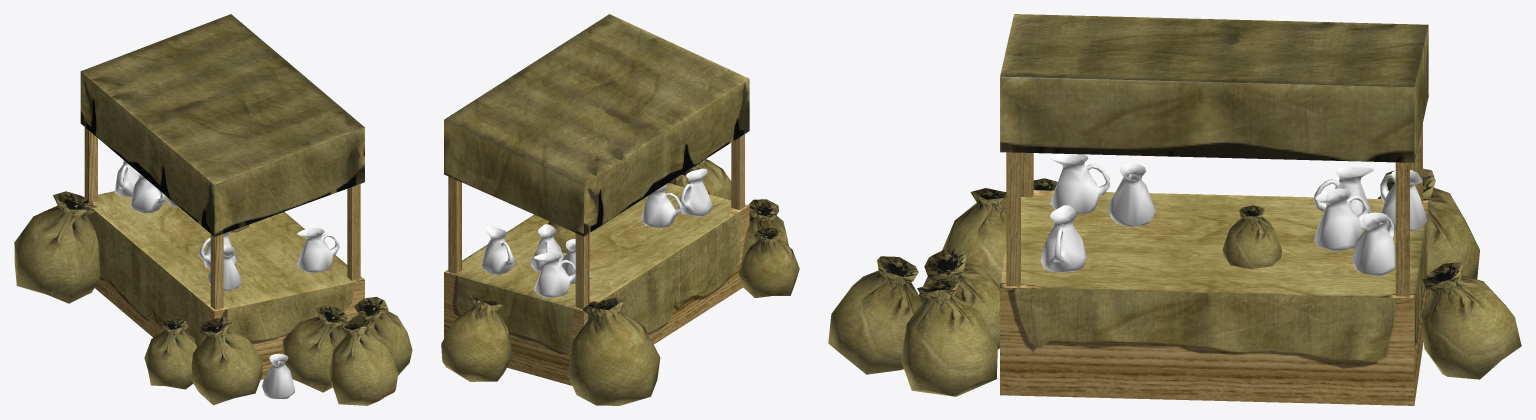
The model's file is store13_2.fbx.
3 renders of one model, left to right at view 1: azimuth 30°, elevation 25°; view 2: azimuth 150°, elevation 25°; view 3: azimuth 270°, elevation 25°, orthographic. The views are drawn at different scales.
Parts seen in each view (by area): view 1: stand_16, bag_137, bag_138, bag_139, bag_143, bag_140, bag_142, pot_16, pot_11, pot_12, pot_15, pot_13 (+1 smaller); view 2: stand_16, bag_137, bag_144, bag_140, pot_13, bag_138, pot_9, pot_14, pot_15, bag_139, pot_10, pot_12 (+1 smaller); view 3: stand_16, bag_142, bag_144, bag_139, bag_138, bag_137, bag_143, bag_141, pot_10, pot_15, pot_14, pot_16 (+3 smaller).
Boxes of the visible parts, box(x1,y1,x2,y2) form: stand_16: box(80, 14, 364, 379); bag_137: box(14, 191, 100, 303); bag_138: box(190, 317, 262, 405); bag_139: box(328, 321, 398, 405); bag_143: box(282, 305, 348, 392); bag_140: box(144, 318, 196, 389); bag_142: box(348, 297, 412, 375); pot_16: box(297, 227, 339, 273); pot_11: box(261, 353, 294, 399); pot_12: box(130, 167, 165, 213); pot_15: box(208, 245, 240, 290); pot_13: box(114, 159, 138, 196); stand_16: box(444, 14, 749, 385); bag_137: box(567, 297, 660, 405); bag_144: box(441, 297, 512, 381); bag_140: box(738, 228, 799, 297); pot_13: box(533, 252, 575, 297); bag_138: box(741, 199, 788, 264); pot_9: box(641, 184, 682, 227); pot_14: box(481, 226, 514, 274); pot_15: box(680, 168, 712, 216); bag_139: box(689, 159, 731, 200); pot_10: box(531, 224, 563, 272); pot_12: box(562, 239, 591, 283); stand_16: box(1000, 14, 1428, 405); bag_142: box(901, 280, 997, 396); bag_144: box(1421, 262, 1521, 379); bag_139: box(828, 256, 922, 374); bag_138: box(942, 188, 1006, 287); bag_137: box(1377, 168, 1479, 297); bag_143: box(919, 249, 999, 349); bag_141: box(1222, 205, 1281, 268); pot_10: box(1313, 188, 1369, 251); pot_15: box(1049, 153, 1109, 214); pot_14: box(1352, 212, 1395, 276); pot_16: box(1041, 205, 1086, 272).
Size of the model in its own units: 56.89 by 58.02 by 110.
